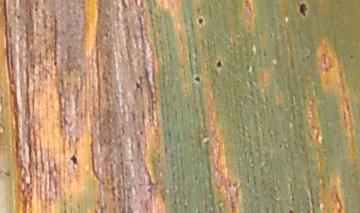tarspot: (299, 2, 308, 16), (69, 154, 78, 165), (192, 75, 201, 83), (215, 59, 222, 69), (197, 17, 204, 26), (134, 80, 141, 89), (289, 208, 294, 213)
